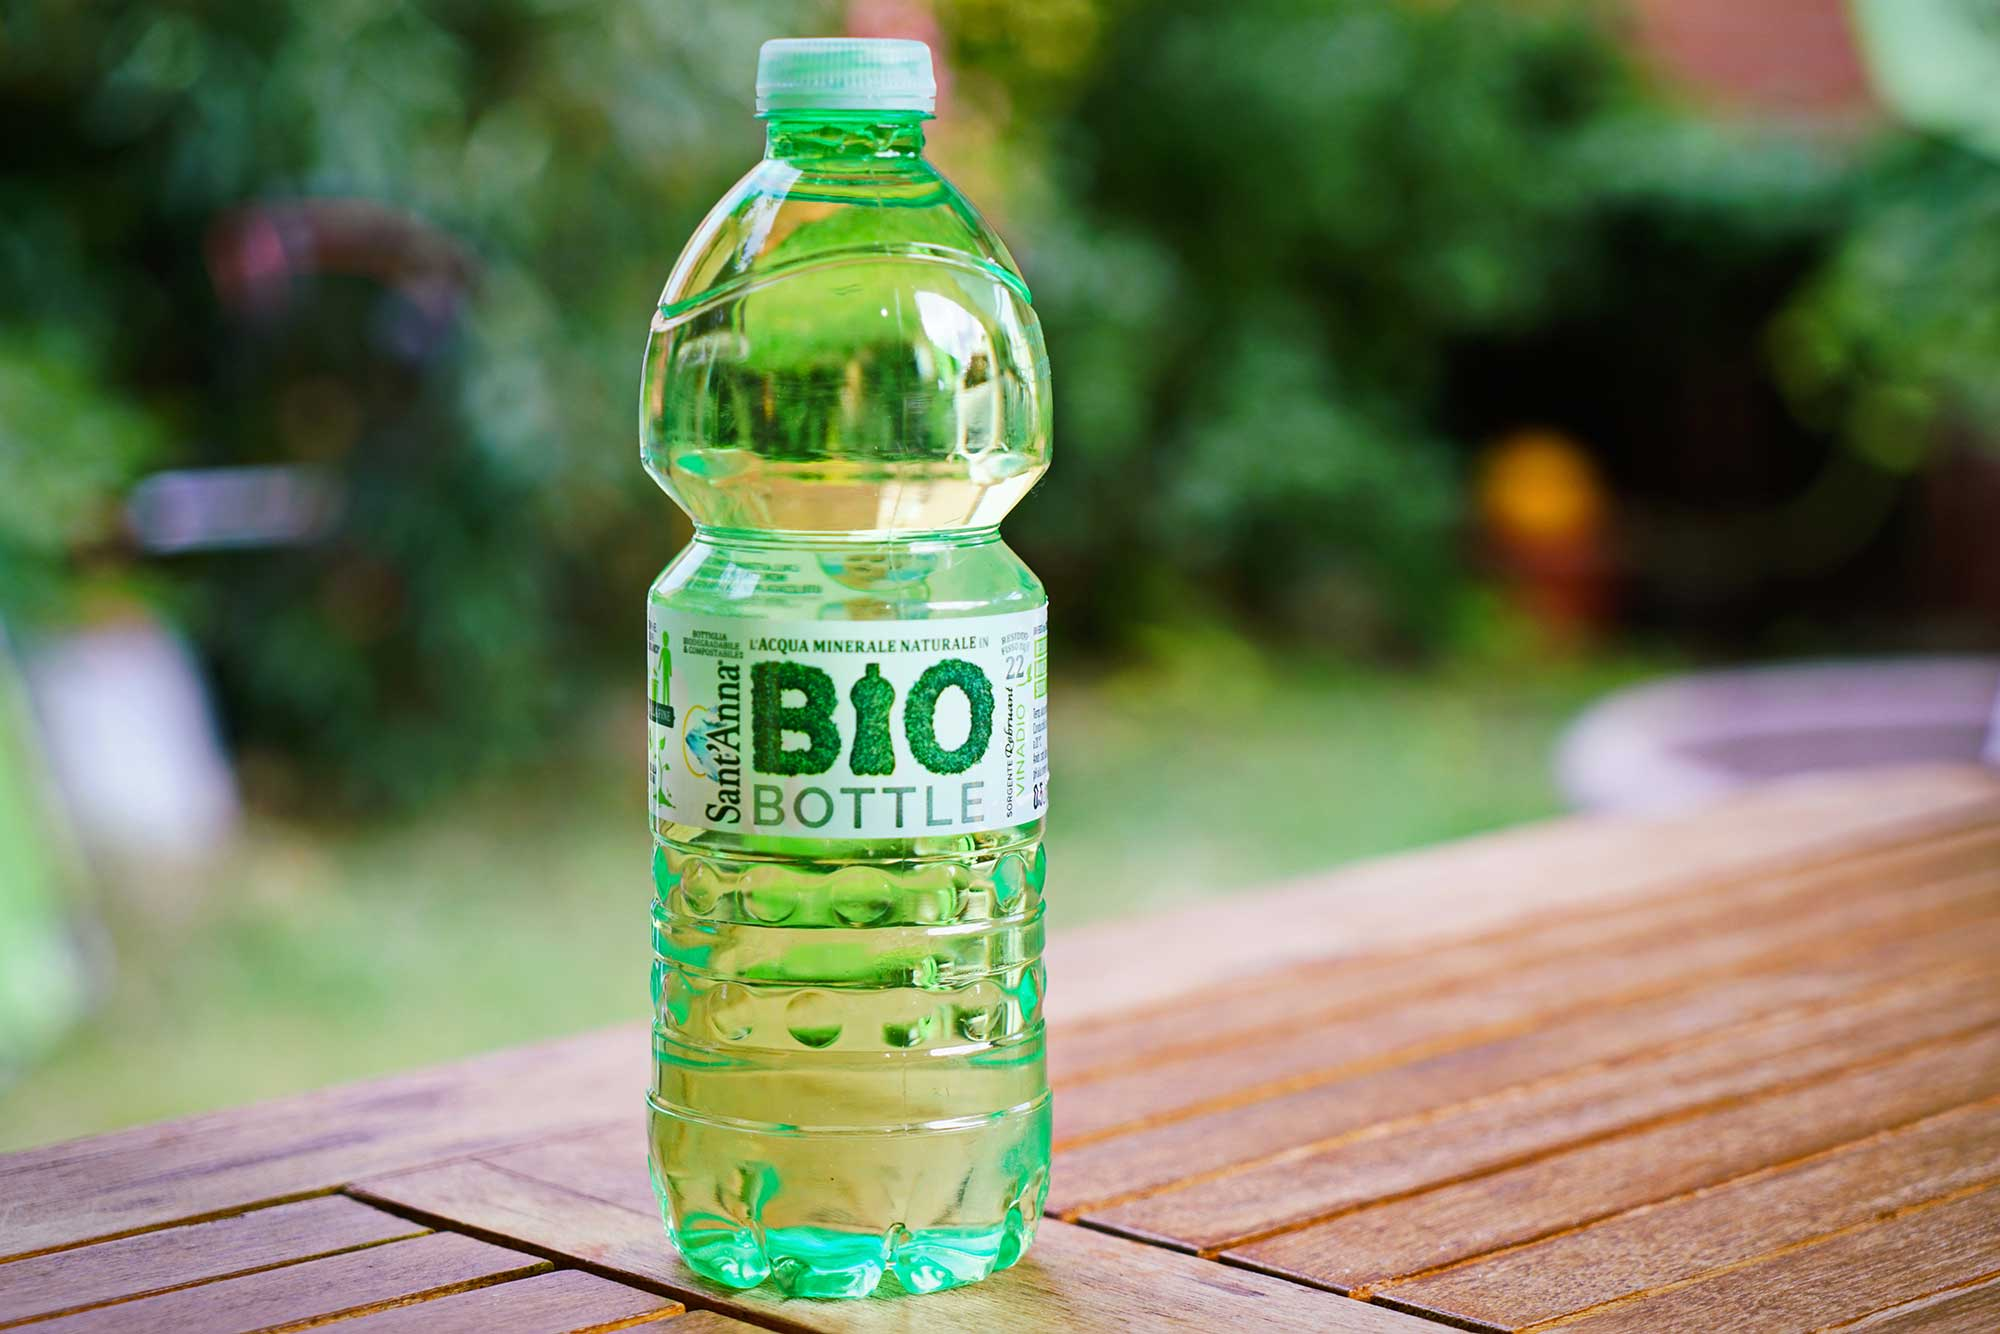PlasticBottle: (631, 22, 1116, 1280)
